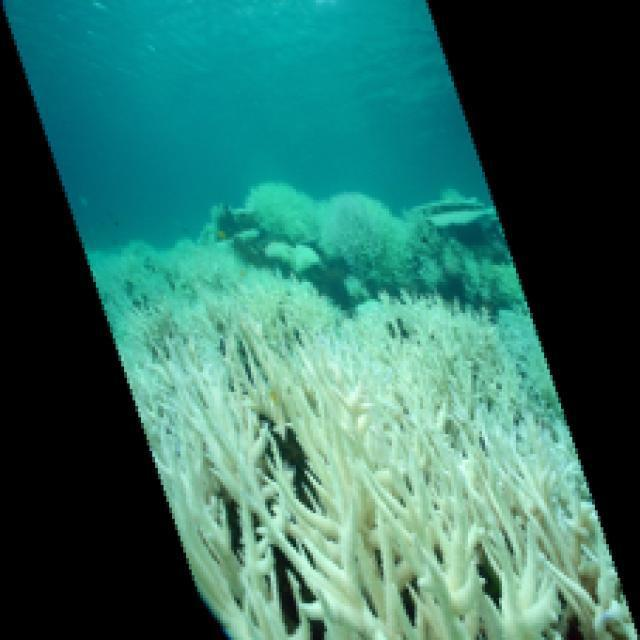Bleached: (85, 229, 640, 638), (247, 181, 407, 264)
